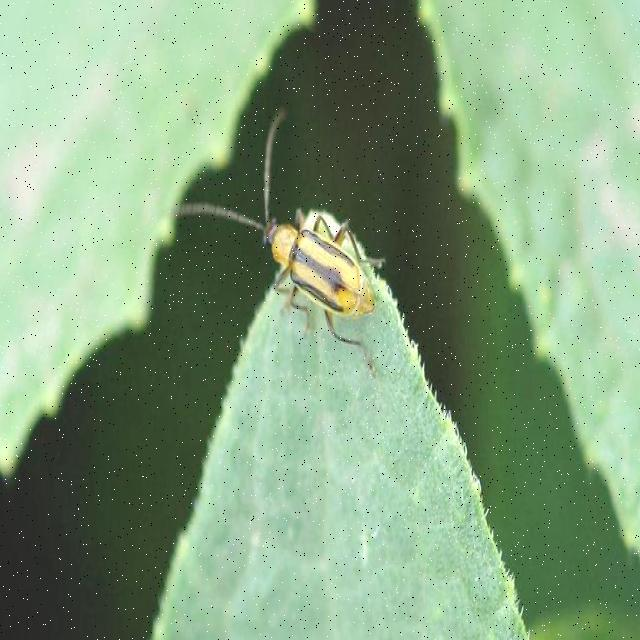trips: (178, 116, 449, 392)
